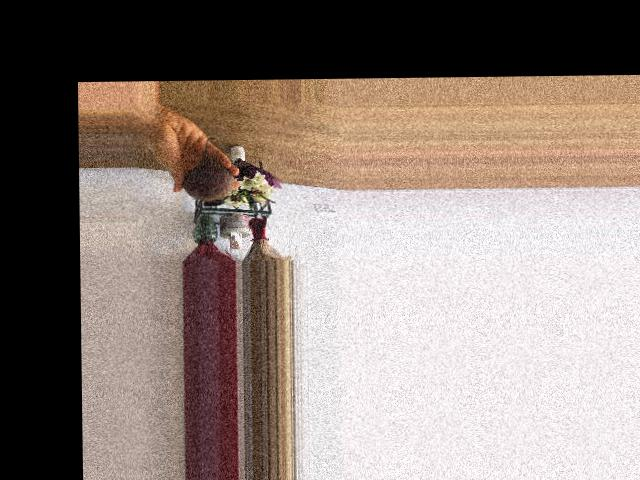beet: (183, 136, 235, 206)
